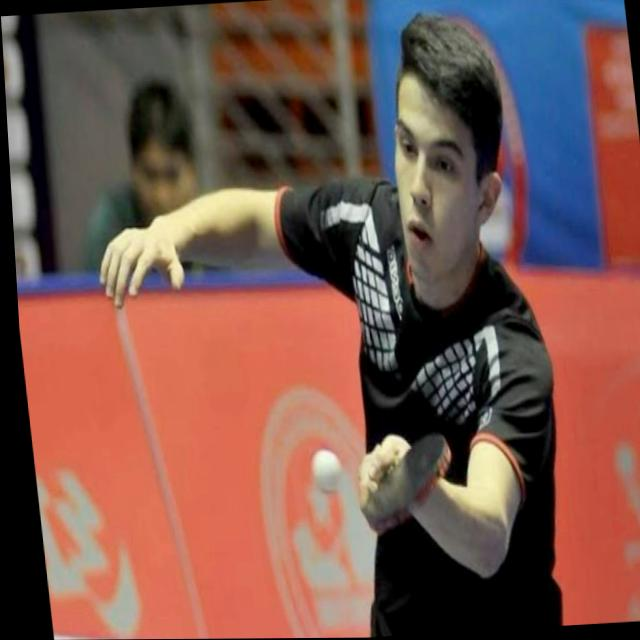TT Racket: (355, 417, 470, 548)
